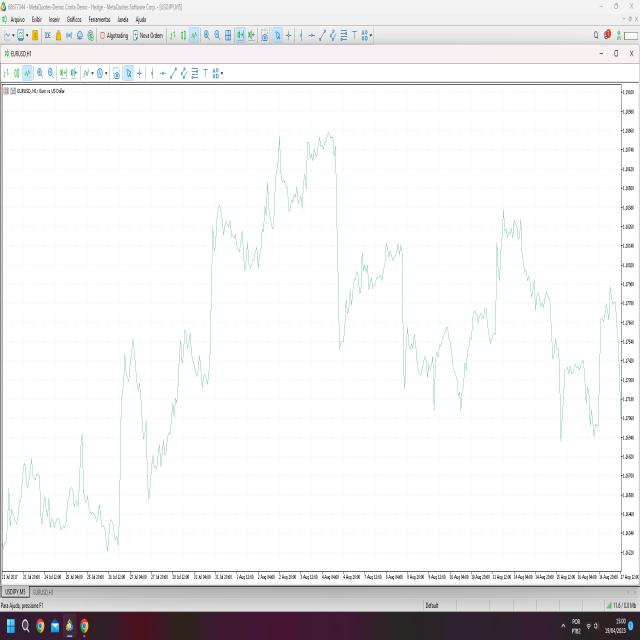bandeira_alta: (198, 194, 263, 404)
bandeira_baixa: (329, 159, 370, 370)
fundo_duplo: (538, 314, 610, 458), (91, 495, 132, 560)
oco_inv: (396, 244, 482, 430)
topo_duplo: (42, 491, 54, 534)
